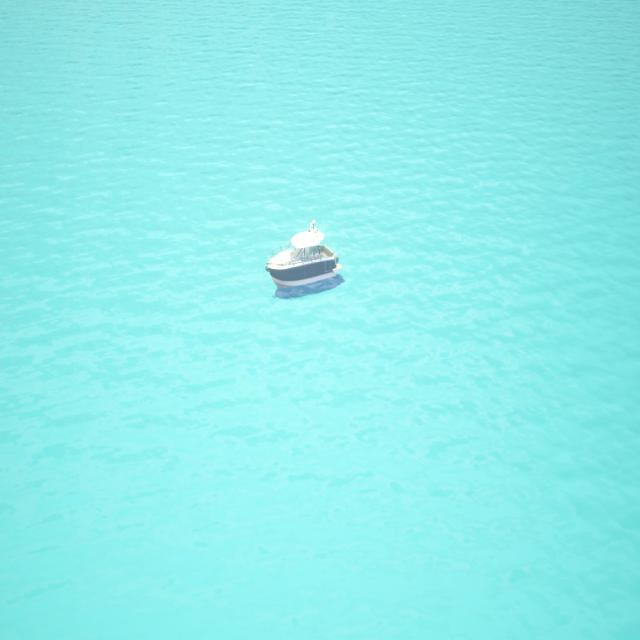ship: (265, 219, 343, 297)
